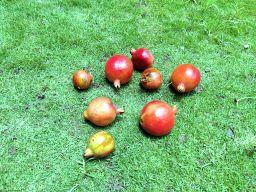pomegranate: (138, 99, 178, 137), (83, 96, 124, 126), (104, 54, 134, 90), (82, 131, 115, 161), (171, 64, 201, 95), (130, 47, 154, 72), (140, 68, 163, 91), (71, 66, 92, 91)
